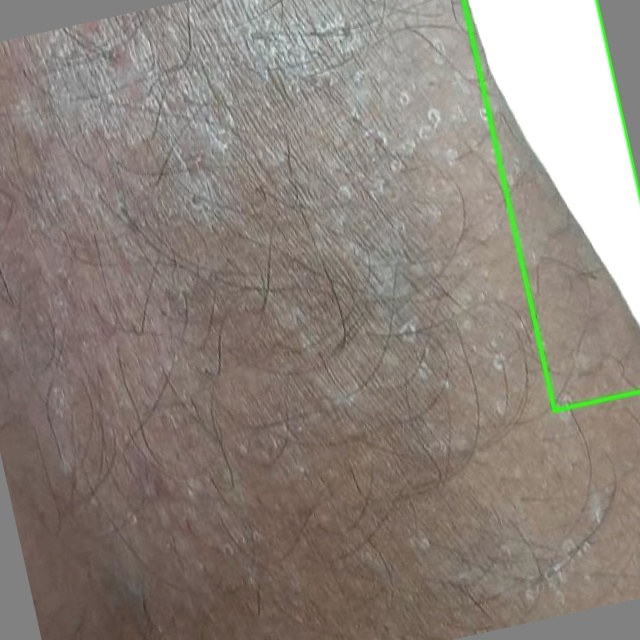Contact Dermatitis: (463, 0, 639, 410)
